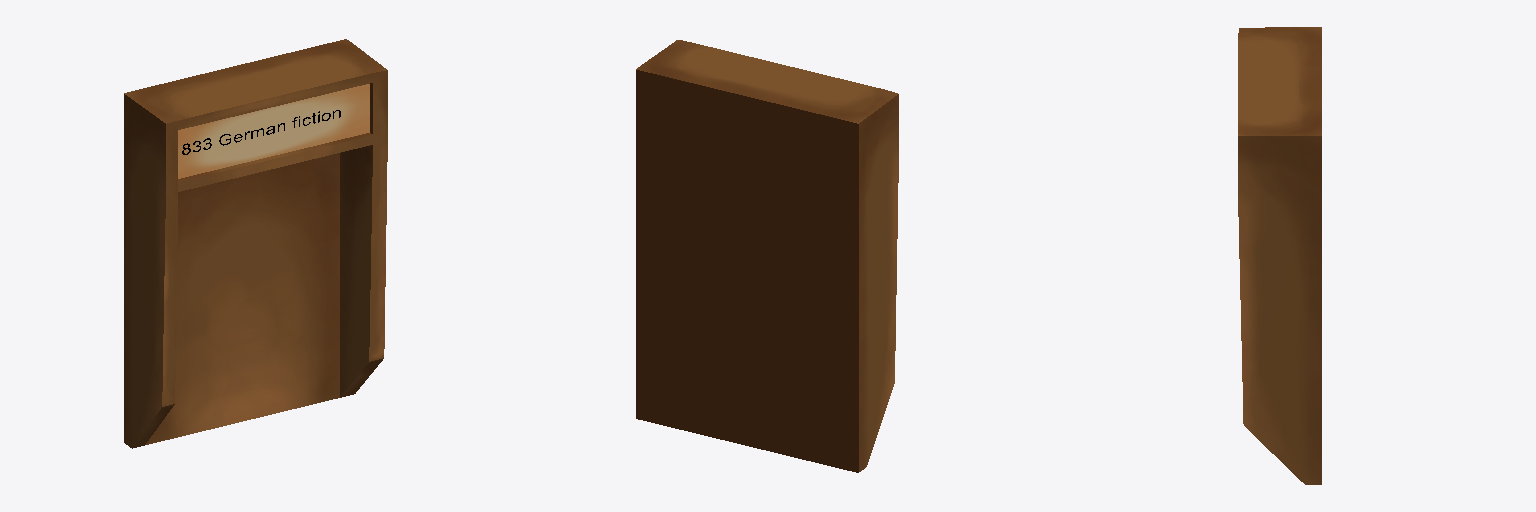
The picture shows the model from 3 angles: view 1: azimuth 30°, elevation 25°; view 2: azimuth 150°, elevation 25°; view 3: azimuth 270°, elevation 25°; orthographic projection.
Visible parts, largest first — view 1: holder, holder_label; view 2: holder; view 3: holder.
Part boxes in pixels (bbox=[...]): holder: bbox=[124, 39, 387, 448]; holder_label: bbox=[178, 84, 369, 178]; holder: bbox=[636, 40, 898, 472]; holder: bbox=[1238, 27, 1321, 484].
Bounding box in the file's own units: 7.93 × 11.88 × 2.58.
Materials: 2 (2 with a texture image).